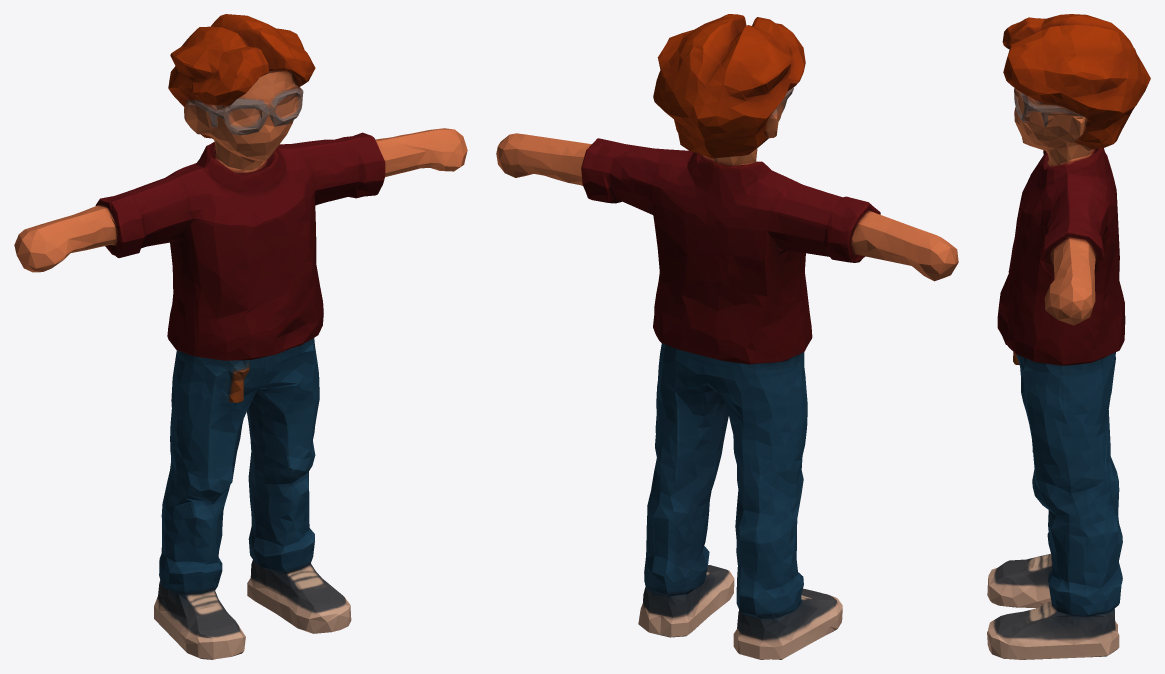
The model's file is fla-guy-textured.glb.
3 renders of one model, left to right at view 1: azimuth 30°, elevation 25°; view 2: azimuth 150°, elevation 25°; view 3: azimuth 270°, elevation 25°, orthographic. The views are drawn at different scales.
Visible parts, largest first — view 1: geometry_0; view 2: geometry_0; view 3: geometry_0.
Part boxes in pixels (x1=…): geometry_0: x1=14, y1=14, x2=467, y2=659; geometry_0: x1=496, y1=14, x2=958, y2=659; geometry_0: x1=987, y1=14, x2=1150, y2=659.
Bounding box in the file's own units: 0.7894 × 1 × 0.2474.
1 material, 1 textured.
